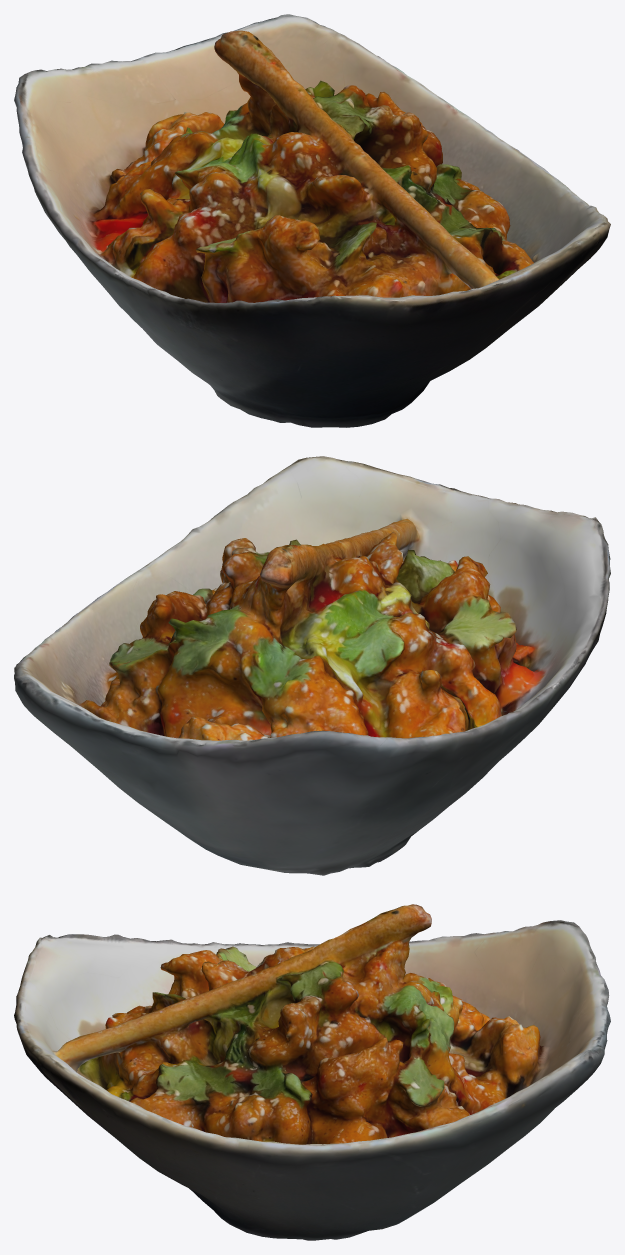
The model's file is chickenDynamiteSalad_1752057967756.glb.
The picture shows the model from 3 angles, top to bottom: view 1: azimuth 30°, elevation 25°; view 2: azimuth 150°, elevation 25°; view 3: azimuth 270°, elevation 25°; orthographic projection. The views are drawn at different scales.
Visible parts, largest first — view 1: 3DModel_Custom; view 2: 3DModel_Custom; view 3: 3DModel_Custom.
Boxes of the visible parts, x1,y1,x2,y2 form: 3DModel_Custom: (14, 14, 610, 427); 3DModel_Custom: (14, 456, 610, 875); 3DModel_Custom: (14, 904, 610, 1240).
Bounding box in the file's own units: 0.1745 × 0.1226 × 0.2237.
1 material, 1 textured.
